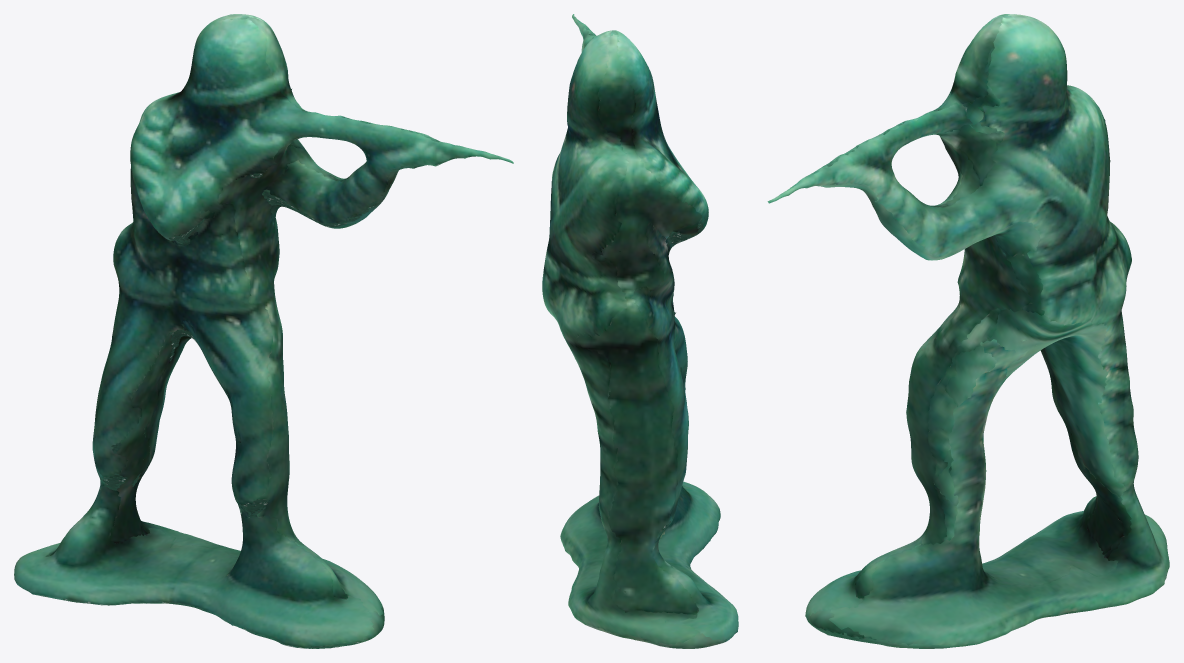
Rendered from toy_soldier.glb.
3 renders of one model, left to right at view 1: azimuth 30°, elevation 25°; view 2: azimuth 150°, elevation 25°; view 3: azimuth 270°, elevation 25°, orthographic. The views are drawn at different scales.
Parts seen in each view (by area): view 1: Object_2, Object_3; view 2: Object_2, Object_3; view 3: Object_2, Object_3.
Boxes of the visible parts, x1,y1,x2,y2 form: Object_2: (14,14,513,648); Object_3: (112,297,283,379); Object_2: (542,14,738,648); Object_3: (575,323,678,396); Object_2: (767,14,1169,648); Object_3: (920,314,1122,368).
Size of the model in its own units: 61.07 by 100 by 61.09.
Materials: 1 (1 with a texture image).
